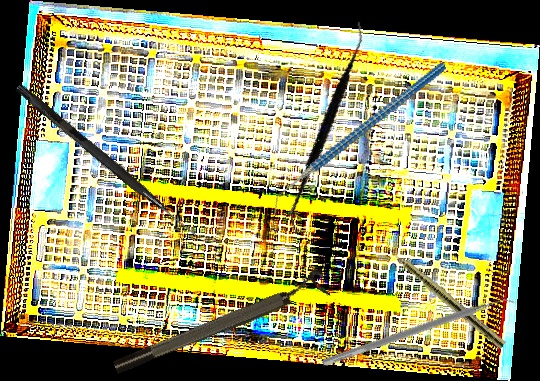Chopper: (245, 62, 473, 215)
Fixation Ring: (107, 267, 332, 378)
Handpiece: (380, 240, 508, 350)
Hook Surgical: (13, 83, 201, 239)
Spatula Surgical: (254, 21, 402, 235), (321, 289, 519, 376)
